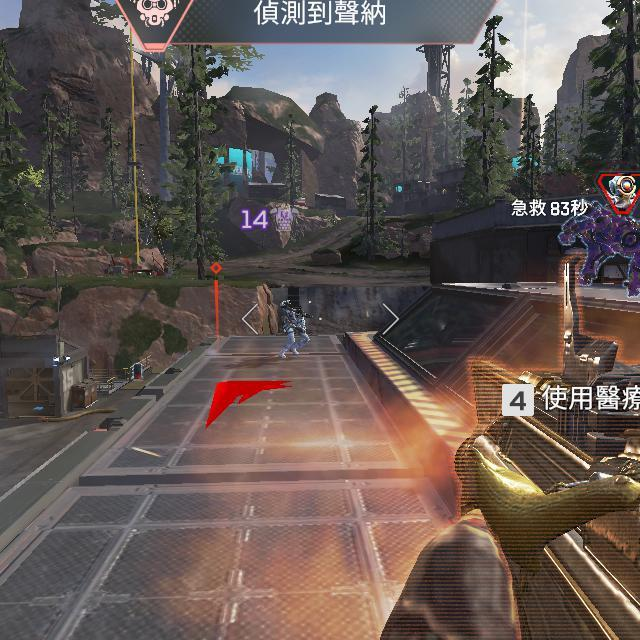avatar: (275, 295, 312, 360)
